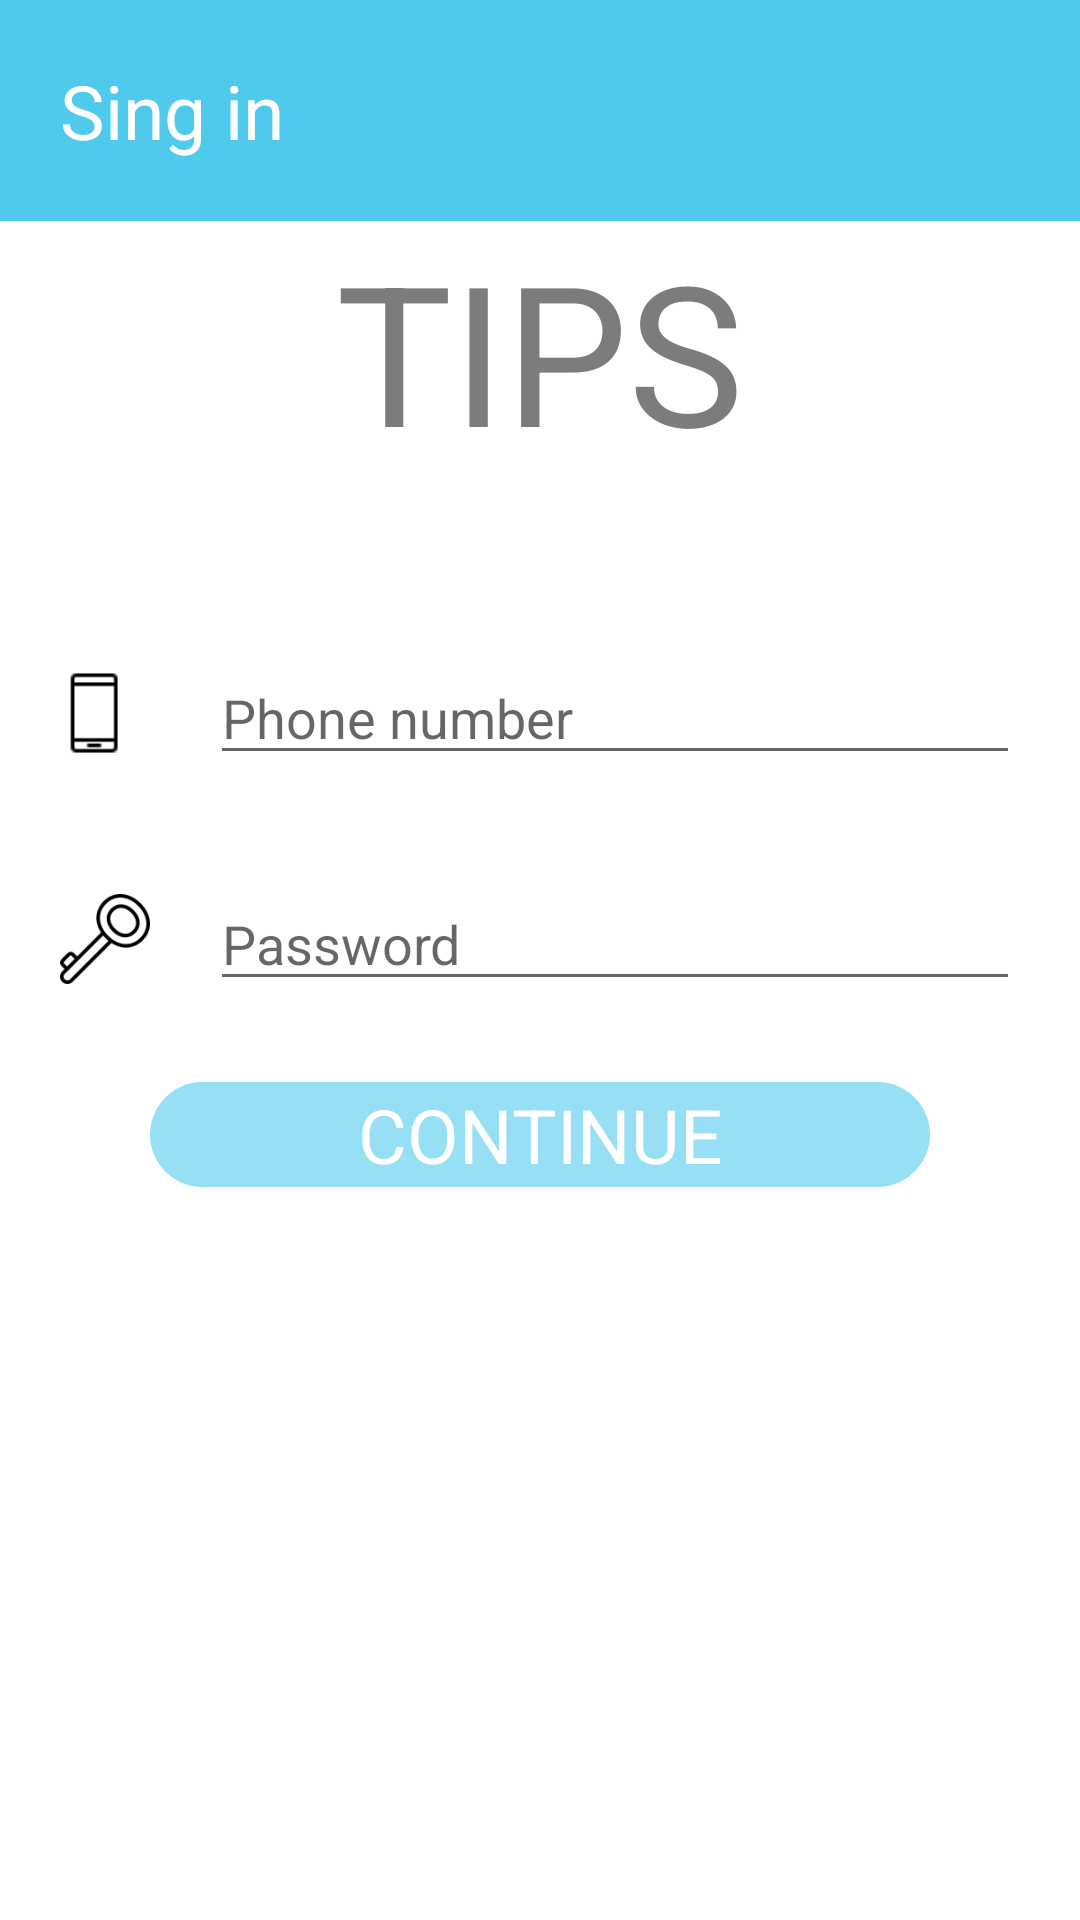

Screen size 1080px×1920px. Icon name, then its center in pixels as (x=x, y=y):
key: (x=105, y=939)
